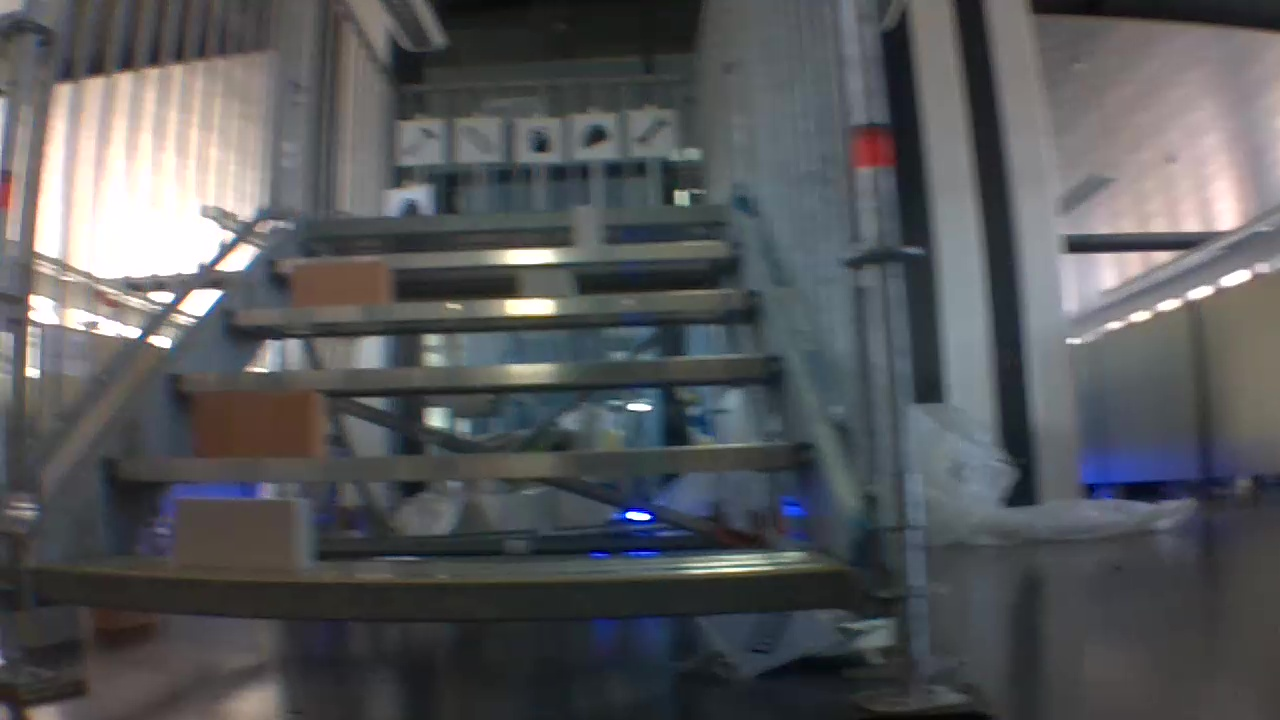brick: (178, 499, 309, 569), (194, 389, 325, 459), (294, 260, 391, 306), (518, 271, 574, 296), (576, 207, 603, 248)
bucket: (524, 123, 553, 154)
edge: (36, 568, 850, 619), (115, 442, 807, 476), (178, 354, 780, 389), (219, 288, 763, 321), (270, 238, 740, 266), (314, 204, 720, 231)
hammer: (401, 123, 441, 162)
stairs: (0, 1, 1001, 717)
steps: (32, 196, 855, 638)
taco: (577, 118, 612, 151)
